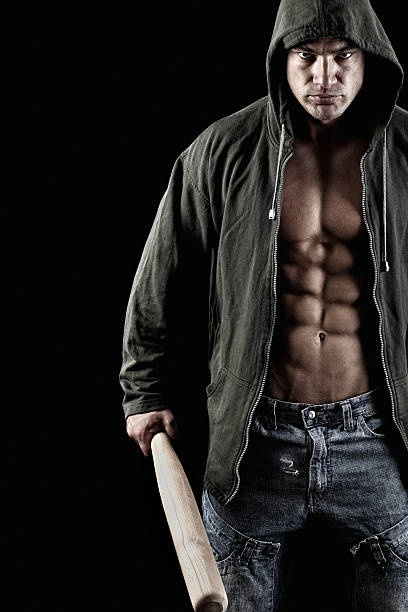bita: (137, 425, 225, 612)
